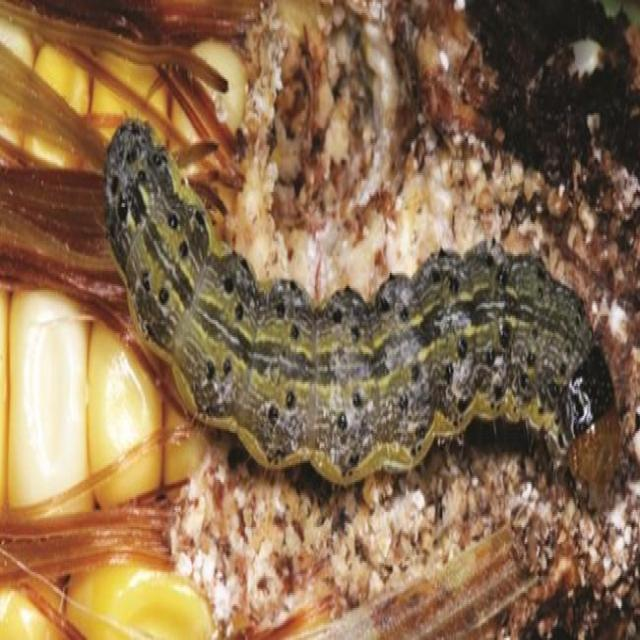Corn-earworm: (113, 112, 626, 509)
